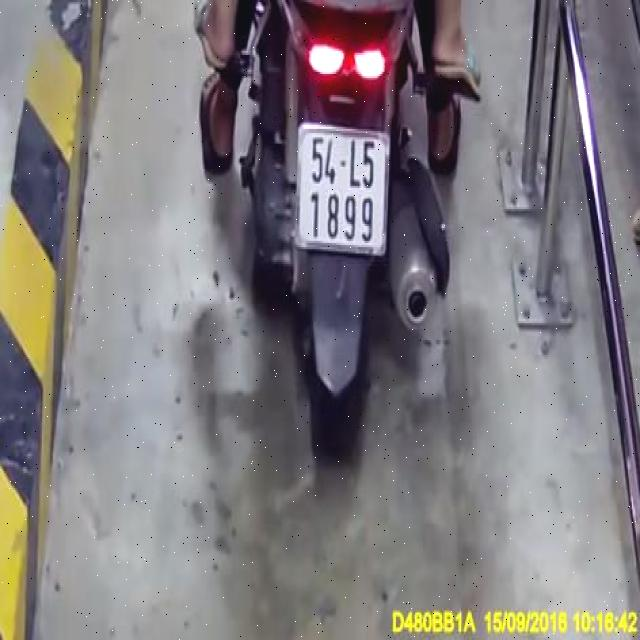1: (310, 189, 322, 241)
4: (324, 134, 339, 187)
5: (359, 136, 378, 192), (308, 128, 326, 186)
8: (327, 191, 341, 240)
9: (342, 190, 359, 241), (361, 197, 377, 244)
L: (346, 137, 363, 189)
